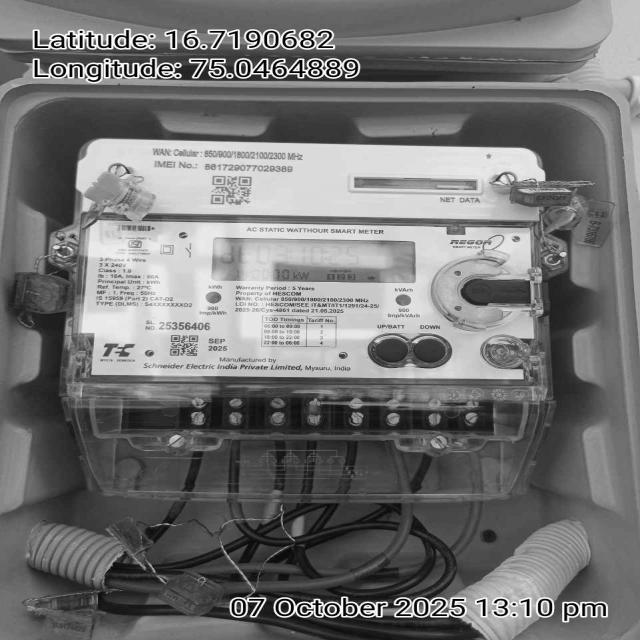meter: (82, 138, 557, 382)
